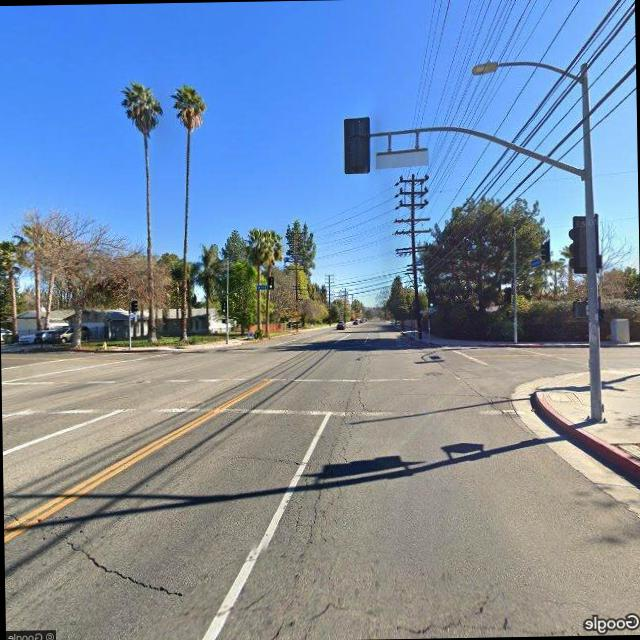crack: (272, 367, 366, 638), (4, 506, 186, 604)
